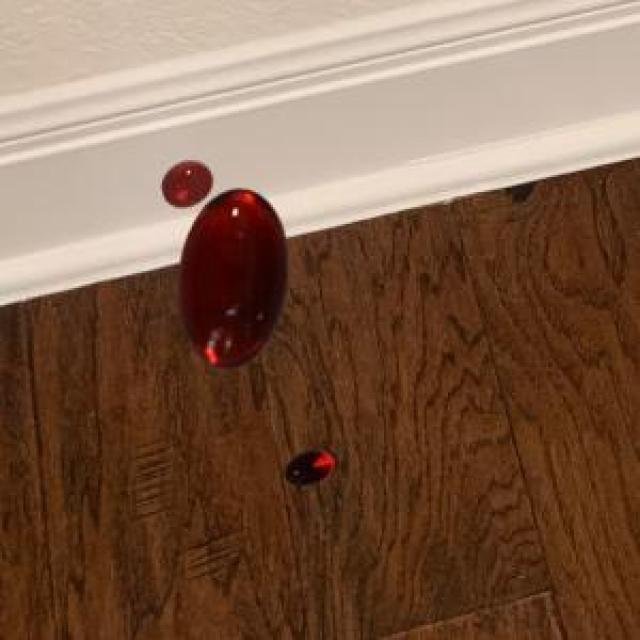Medicol: (146, 151, 297, 376), (277, 437, 337, 509)
